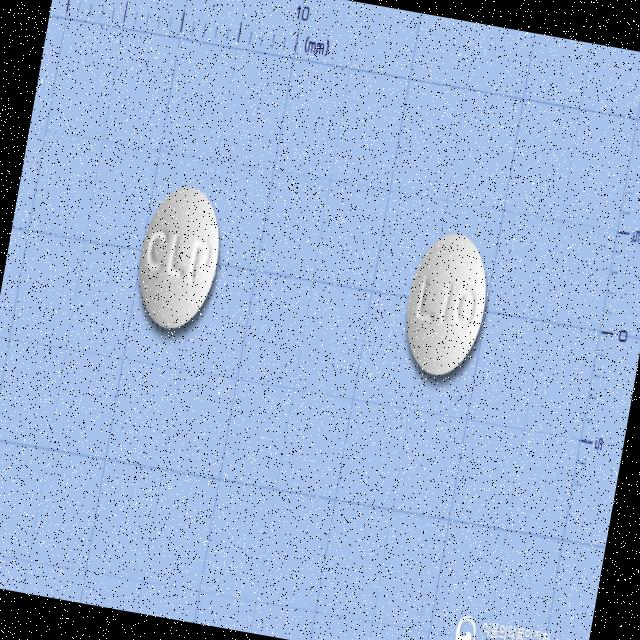Luarva - 20mg: (128, 177, 232, 337), (396, 227, 497, 384)
